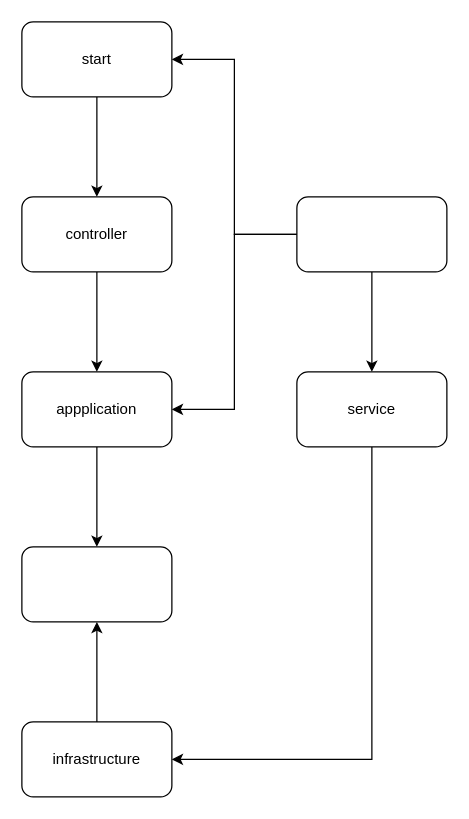
This 469x819 diagram has some shape labels left out. The shapes that lost their labels are listed below. From the top down, each one's centre as x and y in pixels, then its label:
At point (371, 234): "admin".
At point (96, 584): "domain".
